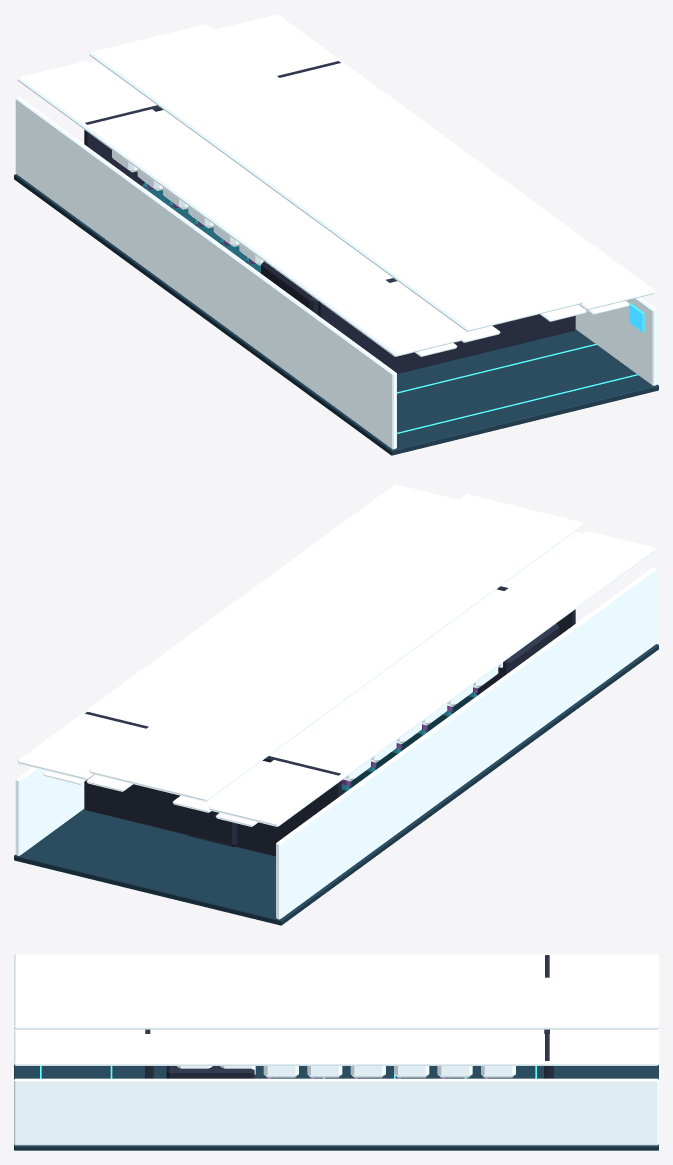
The model's file is cabin-mayhem-scenario.glb.
3 views of the same model, one above another, from view 1: azimuth 30°, elevation 25°; view 2: azimuth 150°, elevation 25°; view 3: azimuth 270°, elevation 25° (orthographic). The views are drawn at different scales.
Parts seen in each view (by area): view 1: CM_WARM_SHELL, CM_CARPET, CM_GALLEY_DARK, CM_NEON_CYAN, CM_SEAT_TEAL; view 2: CM_WARM_SHELL, CM_CARPET, CM_GALLEY_DARK, CM_SEAT_TEAL; view 3: CM_WARM_SHELL, CM_CARPET, CM_GALLEY_DARK.
Part boxes in pixels (x1,y1,x2,y2): CM_WARM_SHELL: (15, 14, 657, 449); CM_CARPET: (14, 174, 658, 455); CM_GALLEY_DARK: (84, 61, 575, 373); CM_NEON_CYAN: (397, 344, 638, 433); CM_SEAT_TEAL: (142, 182, 260, 273); CM_WARM_SHELL: (15, 484, 657, 919); CM_CARPET: (14, 644, 658, 925); CM_GALLEY_DARK: (84, 586, 575, 856); CM_SEAT_TEAL: (341, 692, 477, 794); CM_WARM_SHELL: (14, 954, 658, 1145); CM_CARPET: (14, 1065, 658, 1150); CM_GALLEY_DARK: (145, 955, 553, 1078).
Size of the model in its own units: 8.4 by 3.28 by 20.5.
